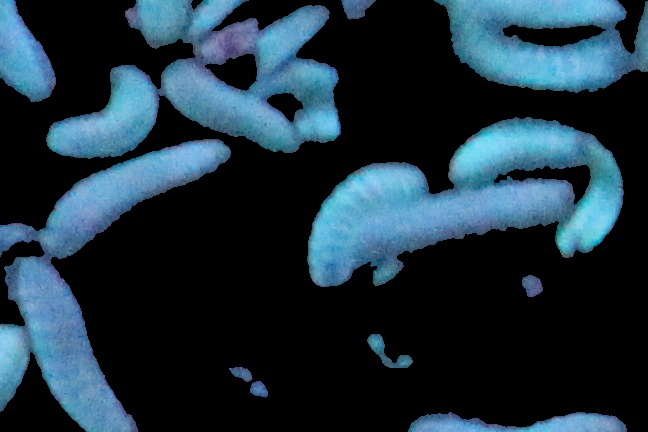larvae: (444, 112, 626, 254), (5, 262, 132, 432), (54, 143, 230, 259), (357, 184, 579, 264), (305, 164, 430, 286), (448, 17, 624, 92), (163, 61, 301, 155), (42, 66, 156, 157), (1, 1, 59, 108), (252, 4, 332, 78), (255, 55, 339, 100)
